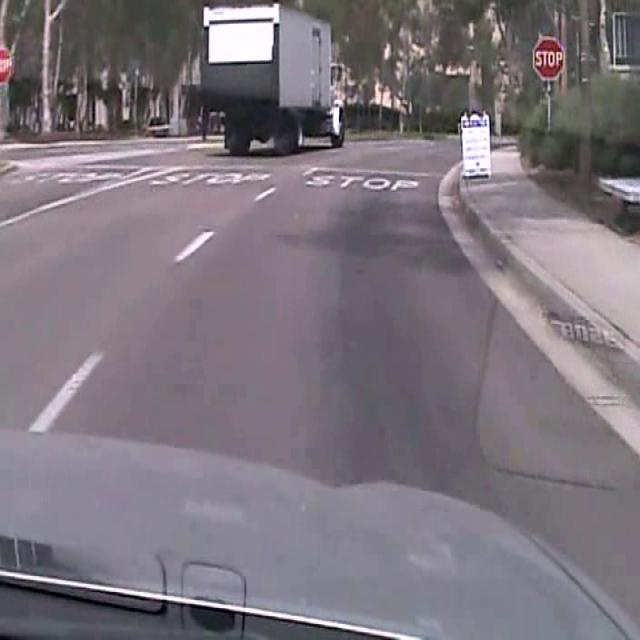stop: (532, 35, 564, 80)
